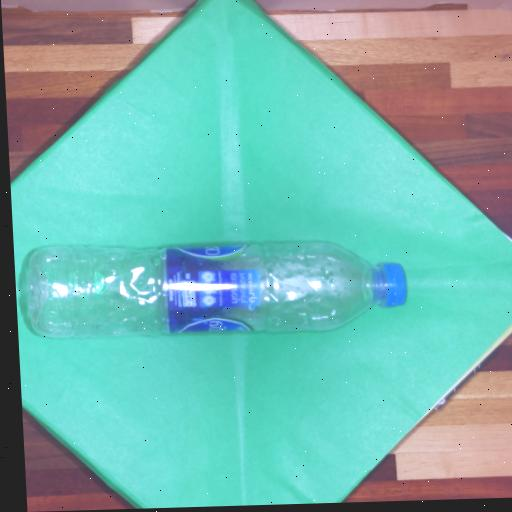bottle: (26, 242, 405, 336)
